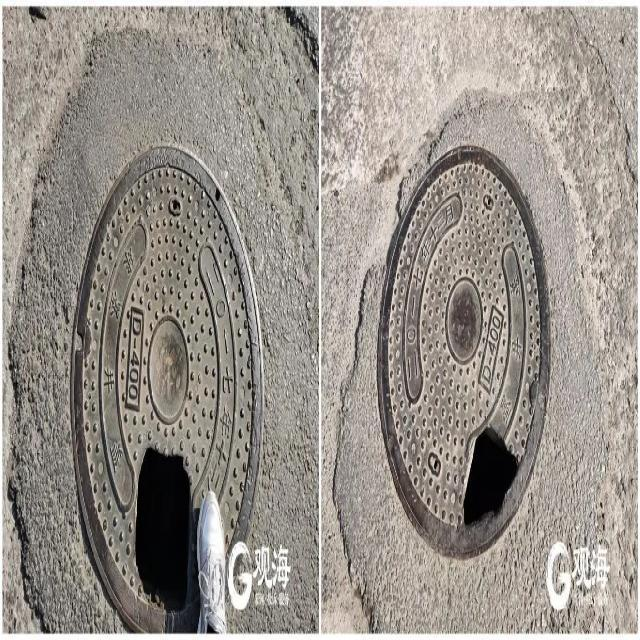manhole: (74, 148, 261, 632), (381, 149, 544, 531)
